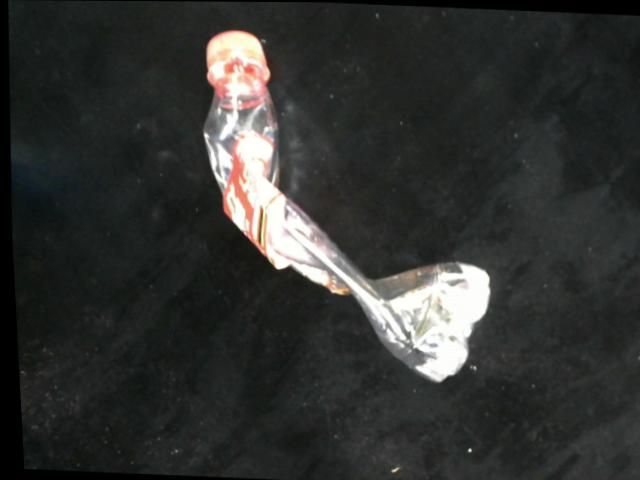bottle: (198, 32, 490, 384)
